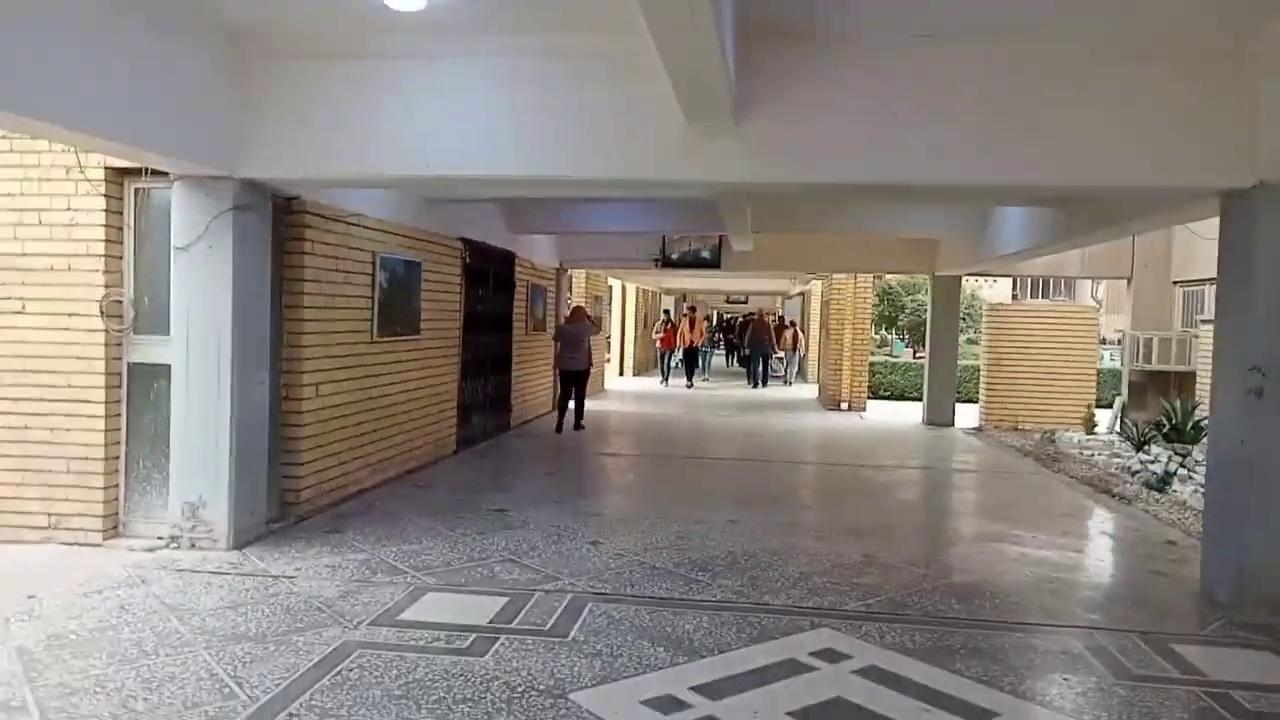person: (551, 304, 601, 433), (676, 305, 704, 388), (651, 308, 677, 386)
tree: (871, 276, 982, 357), (1116, 392, 1208, 455), (871, 277, 927, 355), (1155, 393, 1207, 445), (901, 279, 927, 358), (871, 280, 906, 335), (1117, 415, 1159, 454), (959, 288, 982, 344), (1096, 366, 1121, 406), (955, 362, 979, 402), (904, 314, 925, 357)
